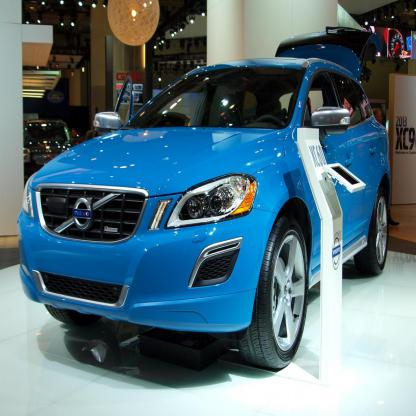Car: (17, 26, 392, 367)
